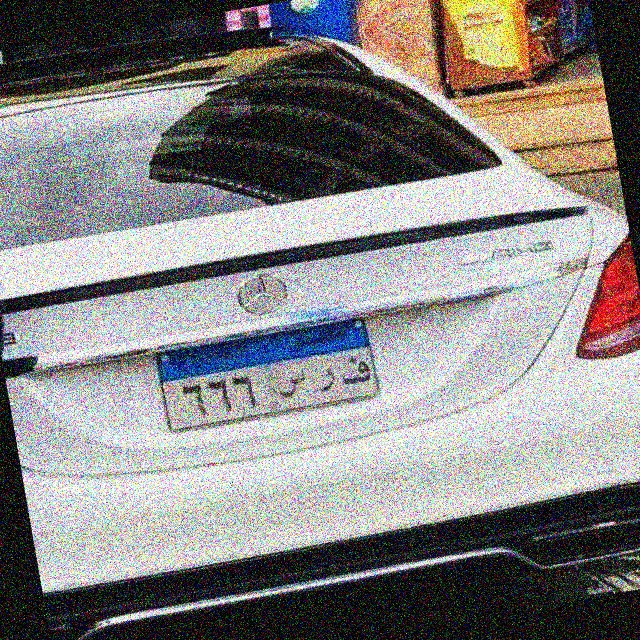License Plate: (149, 311, 389, 437)
